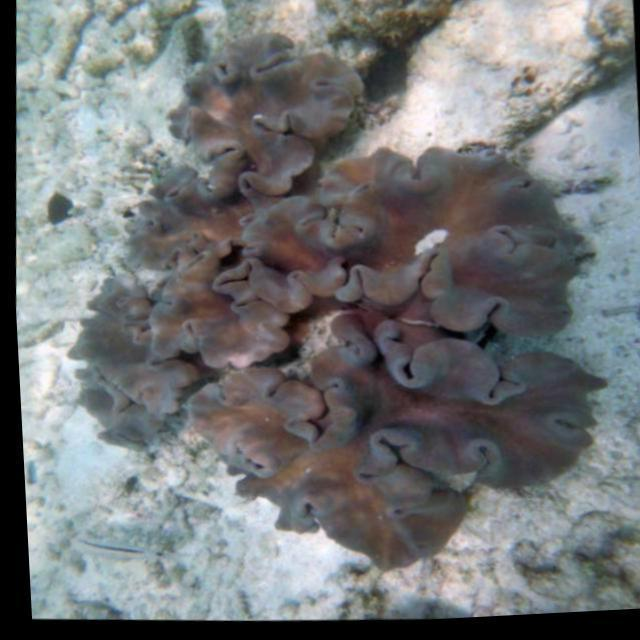Dead Coral: (25, 0, 640, 573)
